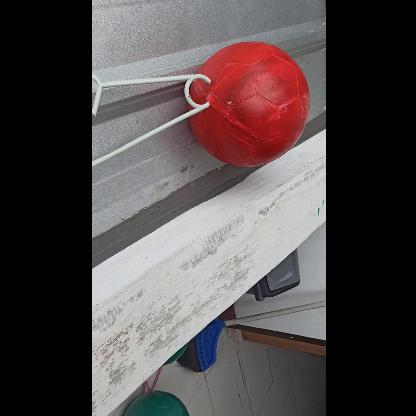red_ball: (185, 42, 309, 166)
